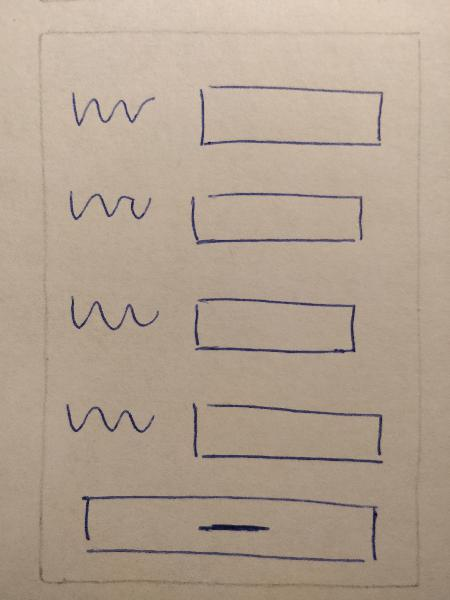button: (72, 487, 392, 570)
text: (62, 282, 165, 341), (56, 388, 159, 447), (59, 177, 160, 232), (65, 80, 163, 135)
text_input: (187, 72, 393, 158), (182, 395, 395, 475), (180, 184, 374, 256), (184, 291, 368, 363)
